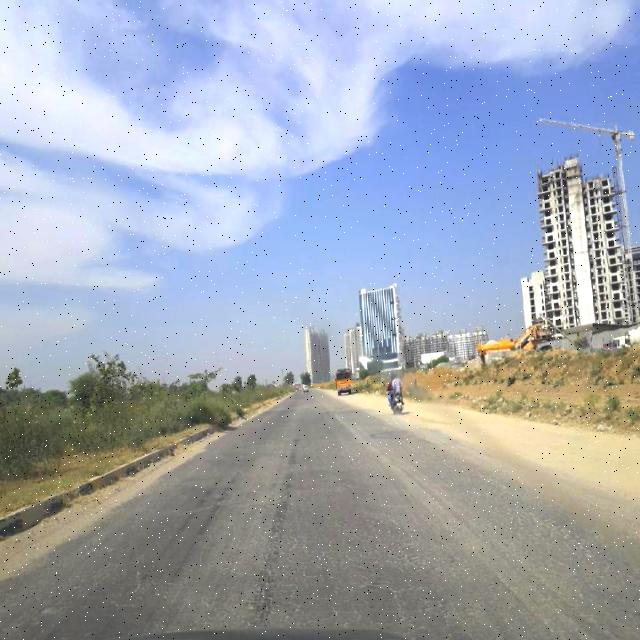D20: (94, 467, 608, 629)
